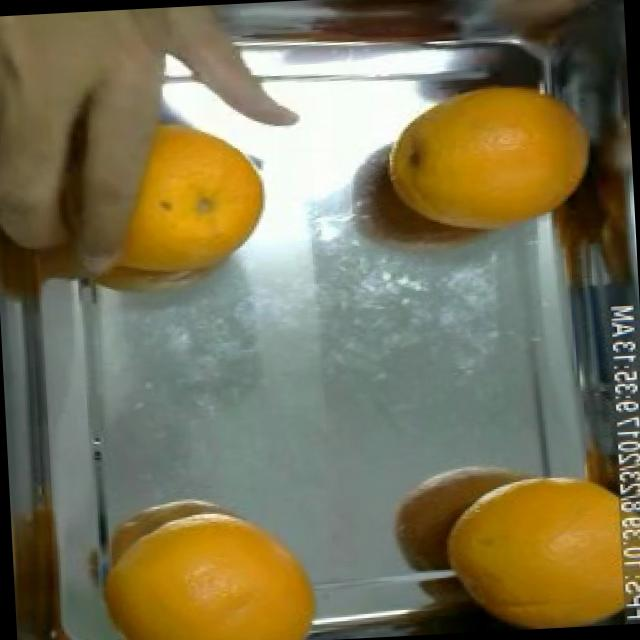Fruit: (386, 68, 622, 256), (425, 469, 640, 634), (115, 102, 284, 290)
